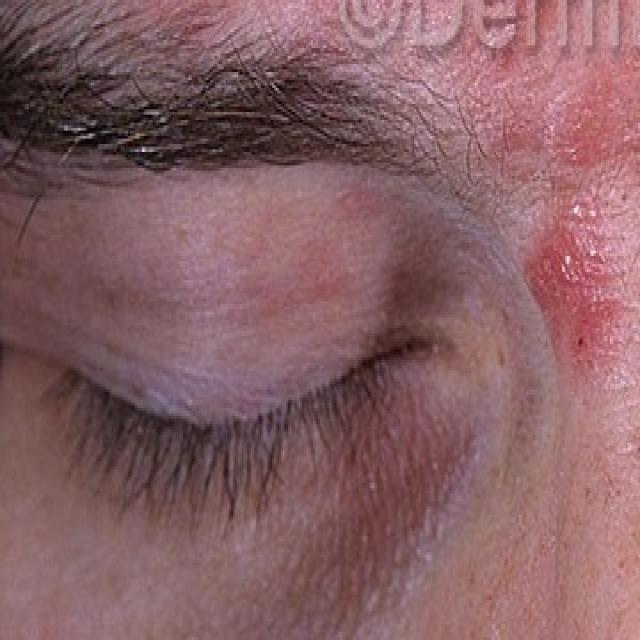Rosacea: (476, 41, 639, 383)
